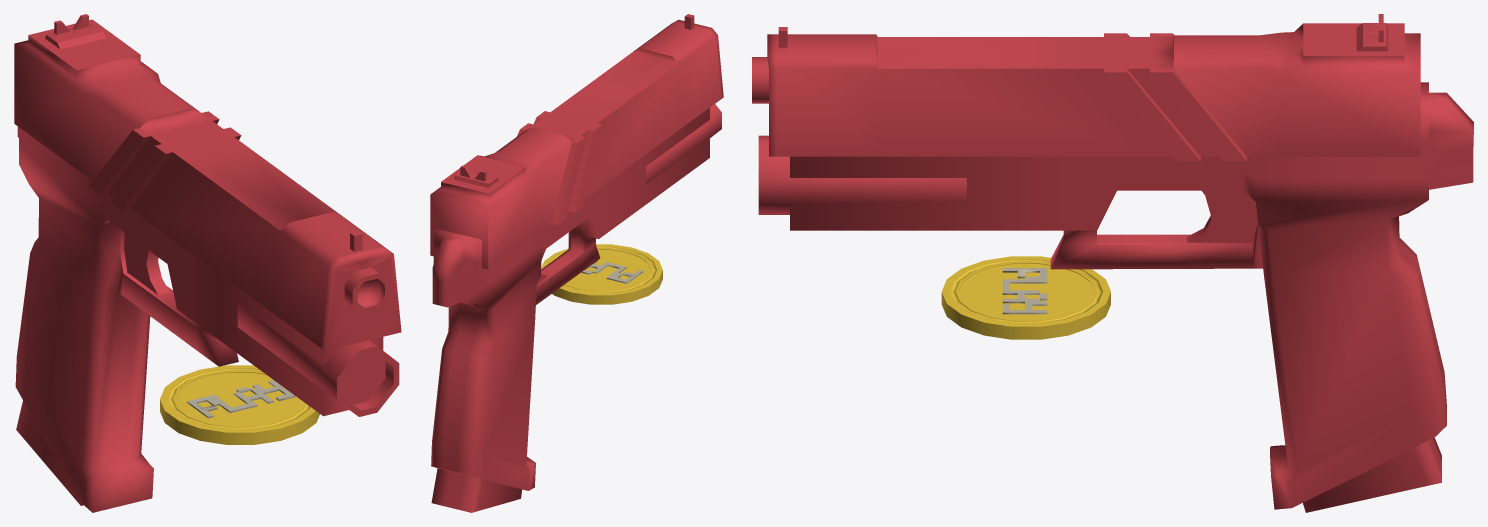
The model's file is MP_Ass2_Coin_Pistols.fbx.
3 views of the same model, side by side, from view 1: azimuth 30°, elevation 25°; view 2: azimuth 150°, elevation 25°; view 3: azimuth 270°, elevation 25° (orthographic). The views are drawn at different scales.
Visible parts, largest first — view 1: Gun_Handle, Gun_Slide, Play_Coin; view 2: Gun_Handle, Gun_Slide, Play_Coin; view 3: Gun_Handle, Gun_Slide, Play_Coin.
Part boxes in pixels (x1=…): Gun_Handle: x1=15, y1=126, x2=399, y2=512; Gun_Slide: x1=14, y1=14, x2=401, y2=350; Play_Coin: x1=160, y1=365, x2=319, y2=444; Gun_Handle: x1=431, y1=104, x2=721, y2=512; Gun_Slide: x1=430, y1=14, x2=723, y2=269; Play_Coin: x1=541, y1=244, x2=662, y2=304; Gun_Handle: x1=758, y1=82, x2=1473, y2=512; Gun_Slide: x1=752, y1=14, x2=1420, y2=161; Play_Coin: x1=941, y1=256, x2=1110, y2=339.
Size of the model in its own units: 94.71 by 299 by 410.
